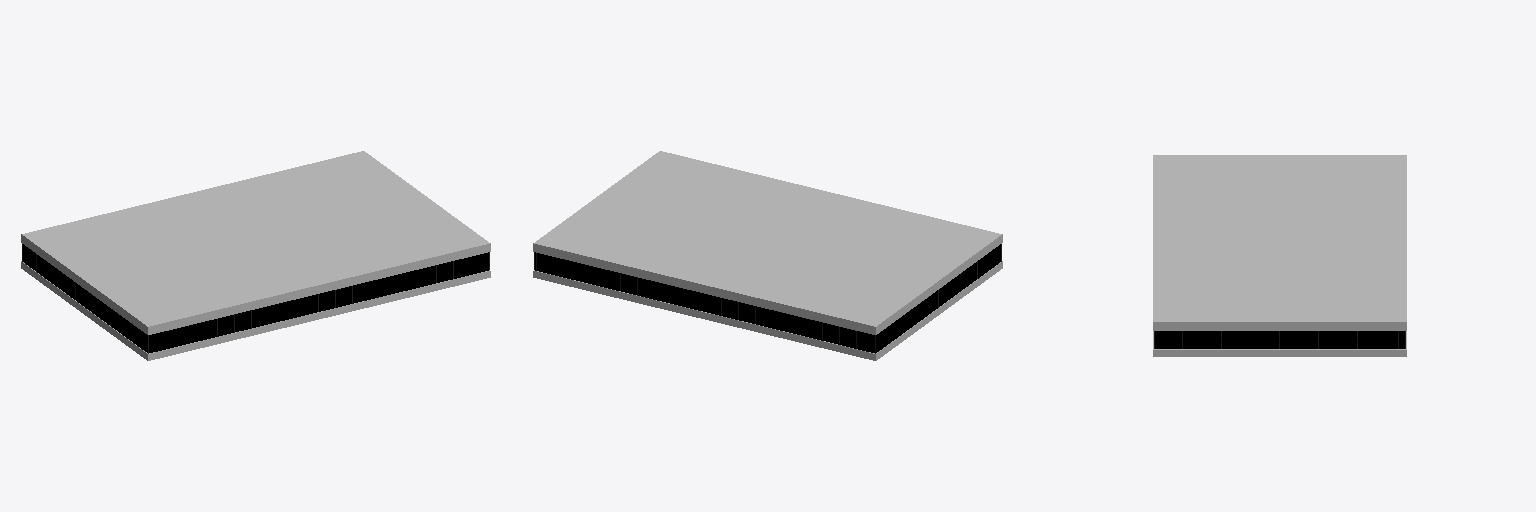
Rendered from 9footEnvelopeStrip-joined.obj.
3 renders of one model, left to right at view 1: azimuth 30°, elevation 25°; view 2: azimuth 150°, elevation 25°; view 3: azimuth 270°, elevation 25°, orthographic.
Parts seen in each view (by area): view 1: Layer_6; view 2: Layer_6; view 3: Layer_6.
Part boxes in pixels (left/top/right/bottom): Layer_6: left=21, top=151, right=490, bottom=360; Layer_6: left=533, top=151, right=1002, bottom=360; Layer_6: left=1153, top=155, right=1406, bottom=356.
Bounding box in the file's own units: 38.1 × 3.66 × 24.38.